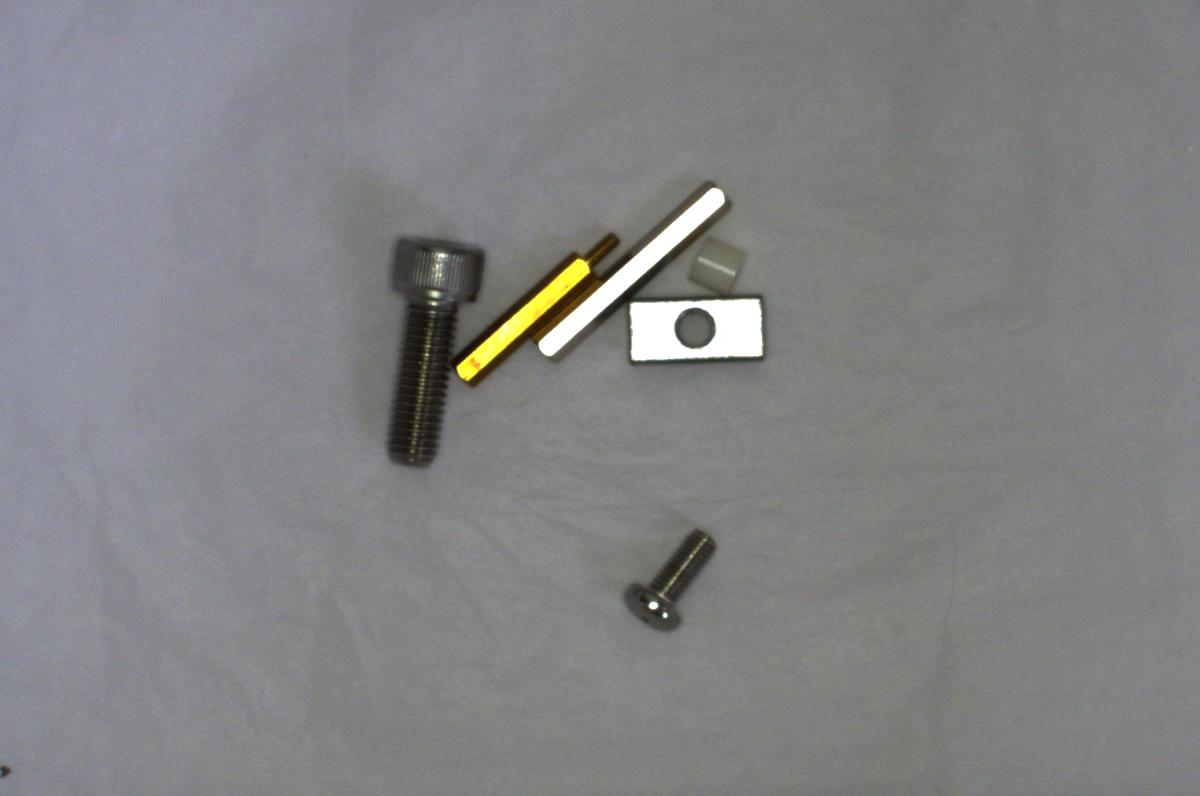Double hexagonal column: (525, 173, 735, 370)
Hexagon pillar: (452, 226, 617, 387)
Hexagon screw: (374, 223, 493, 468)
Plastic cushion pillar: (684, 229, 751, 293)
Rectangular nut: (619, 285, 784, 374)
Round head screw: (613, 520, 727, 630)
